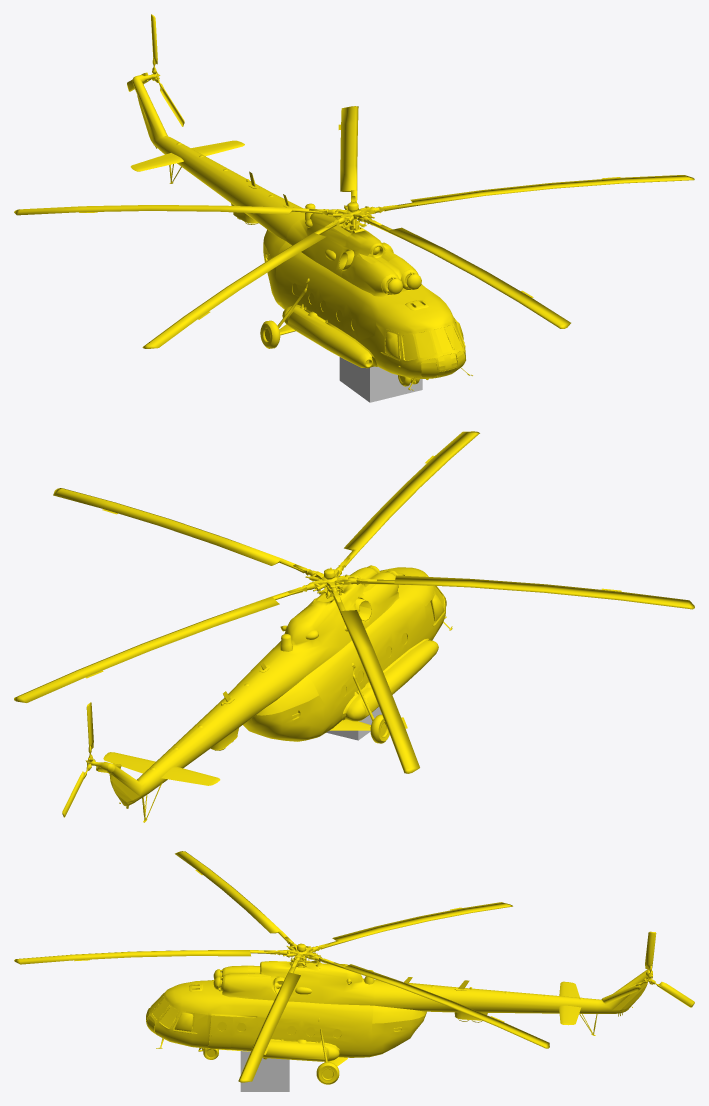
File: mi8_rotor_animated_animated_Y.glb
The picture shows the model from 3 angles, top to bottom: view 1: azimuth 30°, elevation 25°; view 2: azimuth 150°, elevation 25°; view 3: azimuth 270°, elevation 25°; orthographic projection. The views are drawn at different scales.
Parts seen in each view (by area): view 1: mi8_Material #2460_0, lopocty_Material #1469_0, mi8_Material #2419_0, Cube, mi8_Material #1468_0, lopocty_Material #1470_0, zad.vint_Material #1473_0; view 2: mi8_Material #2460_0, lopocty_Material #1469_0, lopocty_Material #1470_0, mi8_Material #1468_0, zad.vint_Material #1473_0; view 3: mi8_Material #2460_0, lopocty_Material #1469_0, Cube, mi8_Material #2419_0, zad.vint_Material #1473_0, mi8_Material #1468_0, lopocty_Material #1470_0, dver_Material #2460_0.
Boxes of the visible parts, box(x1,y1,x2,y2) form: mi8_Material #2460_0: box(130, 74, 470, 390); lopocty_Material #1469_0: box(14, 106, 694, 348); mi8_Material #2419_0: box(291, 283, 465, 378); Cube: box(339, 357, 422, 402); mi8_Material #1468_0: box(155, 146, 472, 390); lopocty_Material #1470_0: box(309, 196, 397, 230); zad.vint_Material #1473_0: box(127, 14, 184, 126); mi8_Material #2460_0: box(91, 565, 452, 822); lopocty_Material #1469_0: box(14, 431, 694, 773); lopocty_Material #1470_0: box(288, 557, 376, 602); mi8_Material #1468_0: box(119, 590, 452, 808); zad.vint_Material #1473_0: box(62, 702, 121, 817); mi8_Material #2460_0: box(146, 960, 652, 1066); lopocty_Material #1469_0: box(14, 851, 549, 1082); Cube: box(240, 1050, 289, 1091); mi8_Material #2419_0: box(146, 993, 341, 1037); zad.vint_Material #1473_0: box(601, 931, 694, 1007); mi8_Material #1468_0: box(156, 961, 632, 1084); lopocty_Material #1470_0: box(264, 936, 333, 967); dver_Material #2460_0: box(208, 1015, 232, 1049).
Size of the model in its own units: 22.31 by 6.95 by 27.76.
